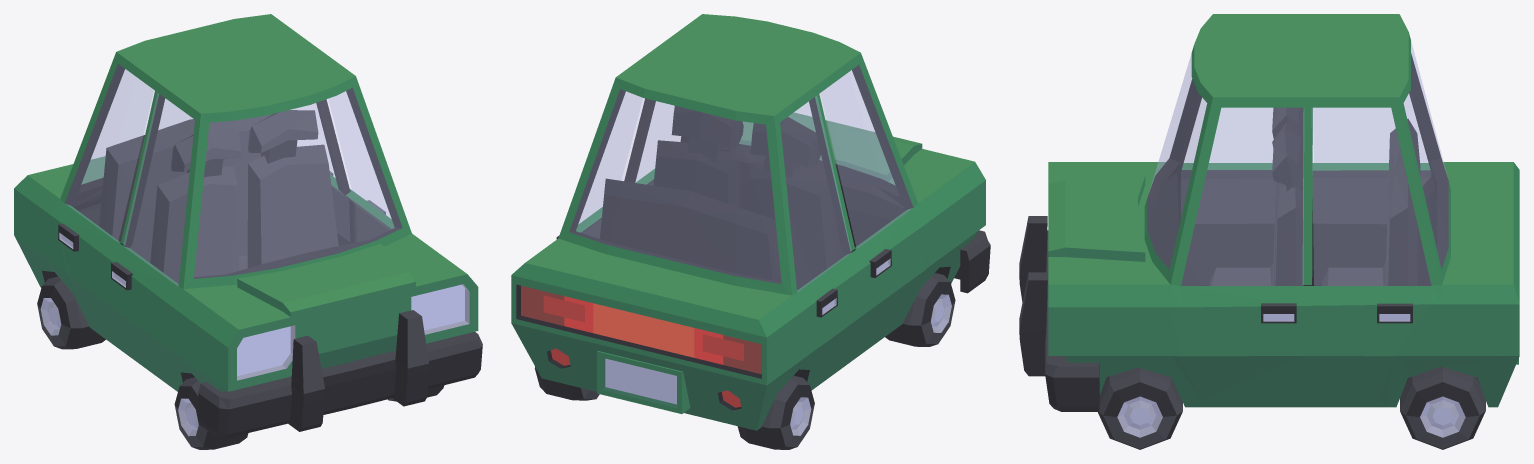
Rendered from eco-box-compact.glb.
3 renders of one model, left to right at view 1: azimuth 30°, elevation 25°; view 2: azimuth 150°, elevation 25°; view 3: azimuth 270°, elevation 25°, orthographic. The views are drawn at different scales.
Parts seen in each view (by area): view 1: Car01_2, Car01_2_AdF, Car01_2_DR1, Car01_2_DR2, Car01_2_DL1, Car01_2_WhBR, Car01_2_WhFR, Car01_2_DL2; view 2: Car01_2, Car01_2_DR1, Car01_2_DR2, Car01_2_WhBR, Car01_2_DL2, Car01_2_WhFR, Car01_2_DL1, Car01_2_AdF, Car01_2_WhBL; view 3: Car01_2, Car01_2_DL1, Car01_2_DL2, Car01_2_DR2, Car01_2_DR1, Car01_2_AdF, Car01_2_WhBL, Car01_2_WhFL.
Boxes of the visible parts, box(x1,y1,x2,y2) form: Car01_2: box(14, 14, 478, 391); Car01_2_AdF: box(198, 310, 482, 438); Car01_2_DR1: box(111, 93, 194, 384); Car01_2_DR2: box(54, 64, 153, 351); Car01_2_DL1: box(329, 91, 394, 242); Car01_2_WhBR: box(37, 276, 105, 349); Car01_2_WhFR: box(174, 377, 248, 449); Car01_2_DL2: box(292, 103, 351, 245); Car01_2: box(511, 14, 985, 430); Car01_2_DR1: box(821, 65, 924, 355); Car01_2_DR2: box(780, 96, 868, 382); Car01_2_WhBR: box(737, 375, 814, 449); Car01_2_DL2: box(556, 92, 642, 239); Car01_2_WhFR: box(885, 273, 955, 346); Car01_2_DL1: box(635, 101, 680, 185); Car01_2_AdF: box(954, 230, 990, 293); Car01_2_WhBL: box(534, 366, 599, 400); Car01_2: box(1048, 14, 1519, 407); Car01_2_DL1: box(1181, 108, 1303, 399); Car01_2_DL2: box(1300, 108, 1431, 399); Car01_2_DR2: box(1312, 94, 1431, 284); Car01_2_DR1: box(1181, 98, 1275, 284); Car01_2_AdF: box(1019, 216, 1099, 411); Car01_2_WhBL: box(1400, 366, 1485, 449); Car01_2_WhFL: box(1098, 367, 1182, 449).
Bounding box in the file's own units: 2.56 × 2.82 × 3.83.
3 materials, 3 textured.
